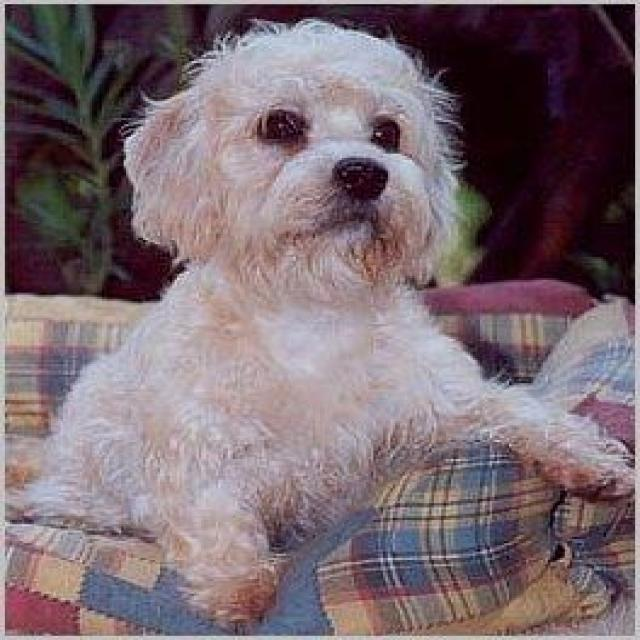dandie_dinmont: (2, 14, 638, 634)
